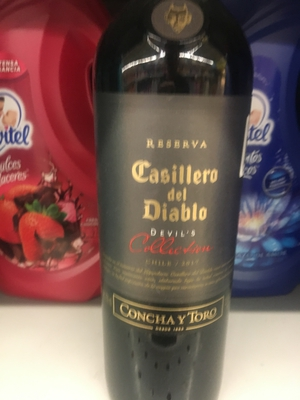casillero del diablo devils collection rojo: (90, 16, 241, 400)
